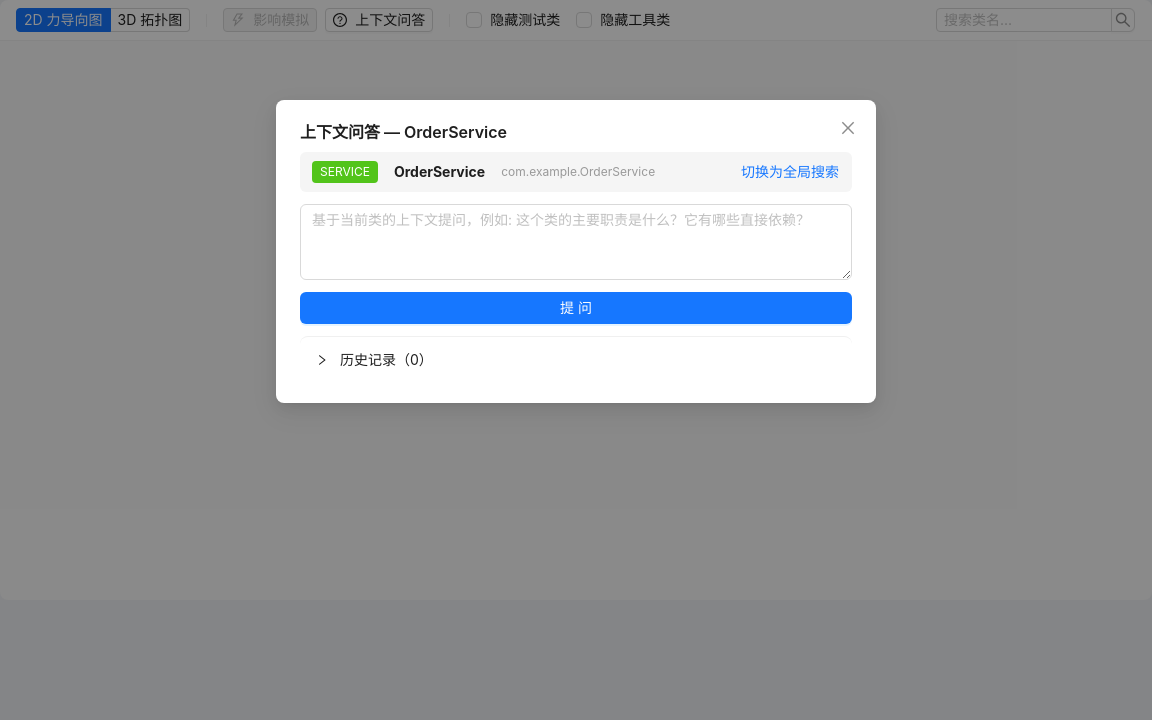
Test case: ProjectMap.vue › 上下文问答 › doContextQa_whenSuccessWithClassTarget_shouldCallAiWithClassFqn
Type "这个类做什么？" into the text box with placeholder "基于当前类的上下文提问，例如: 这个类的主要职责是什么？它有哪些直接依赖？". click: (576, 242)
box: 300,204 -> 852,280
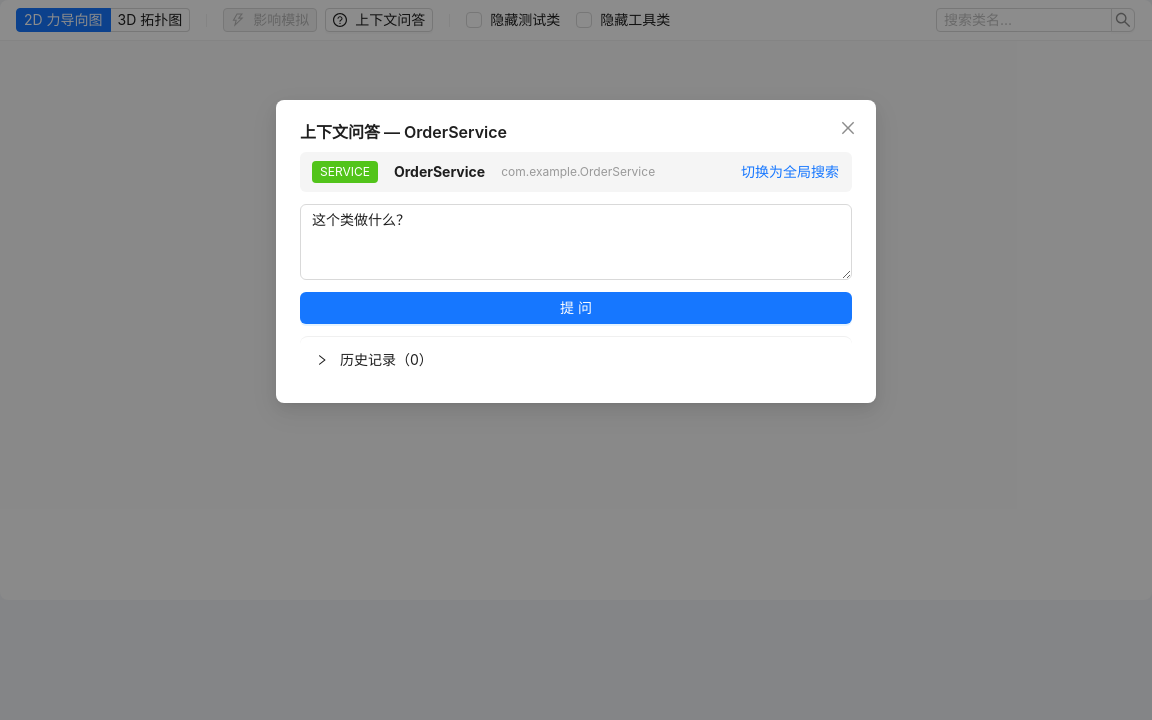
Click the button "提 问". click: (576, 308)
box: 300,292 -> 852,324
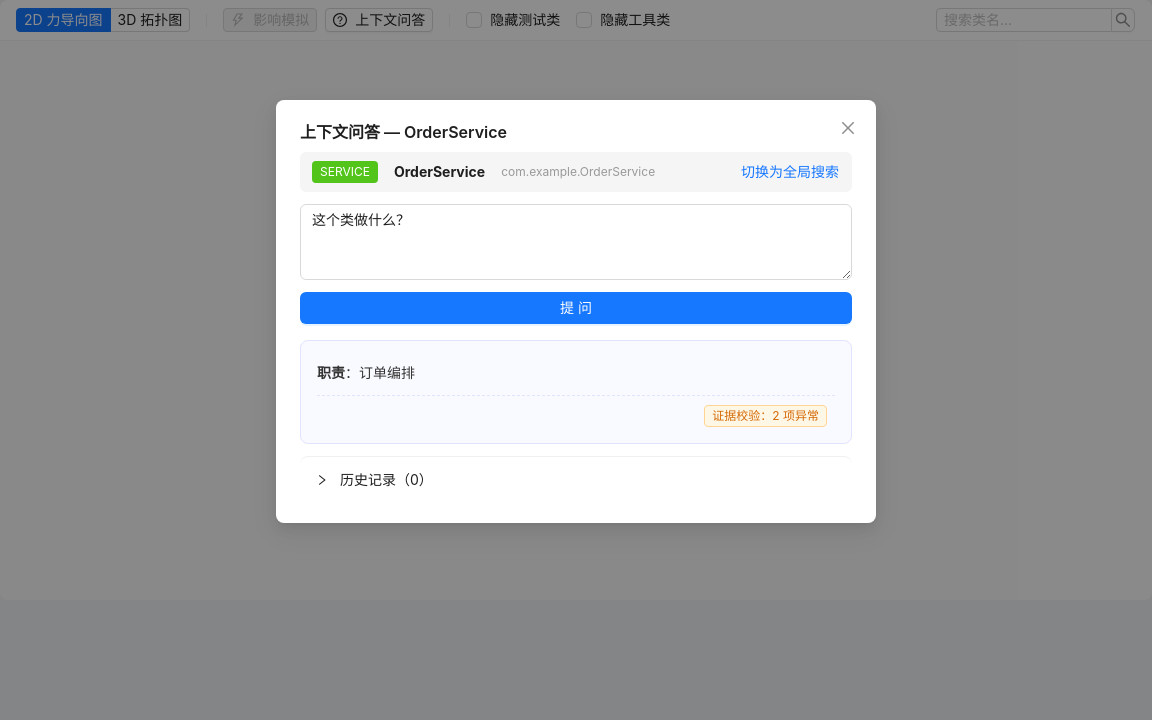
Check: the text "证据校验：2 项异常" is shown, box 704,405 -> 827,427
